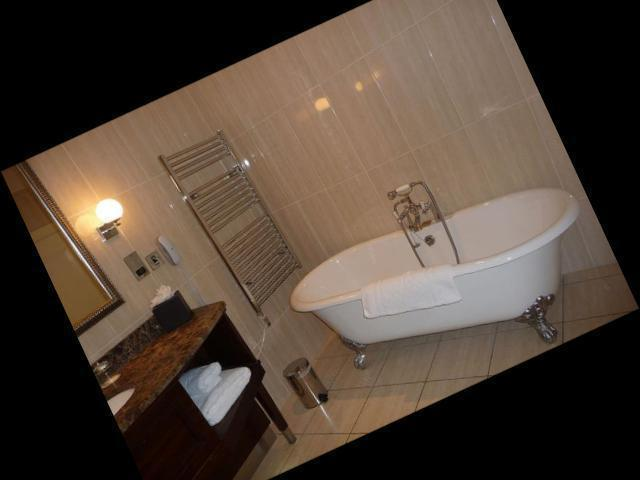Bote de Basura: (274, 351, 335, 420)
Lavamanos: (279, 151, 629, 435)
